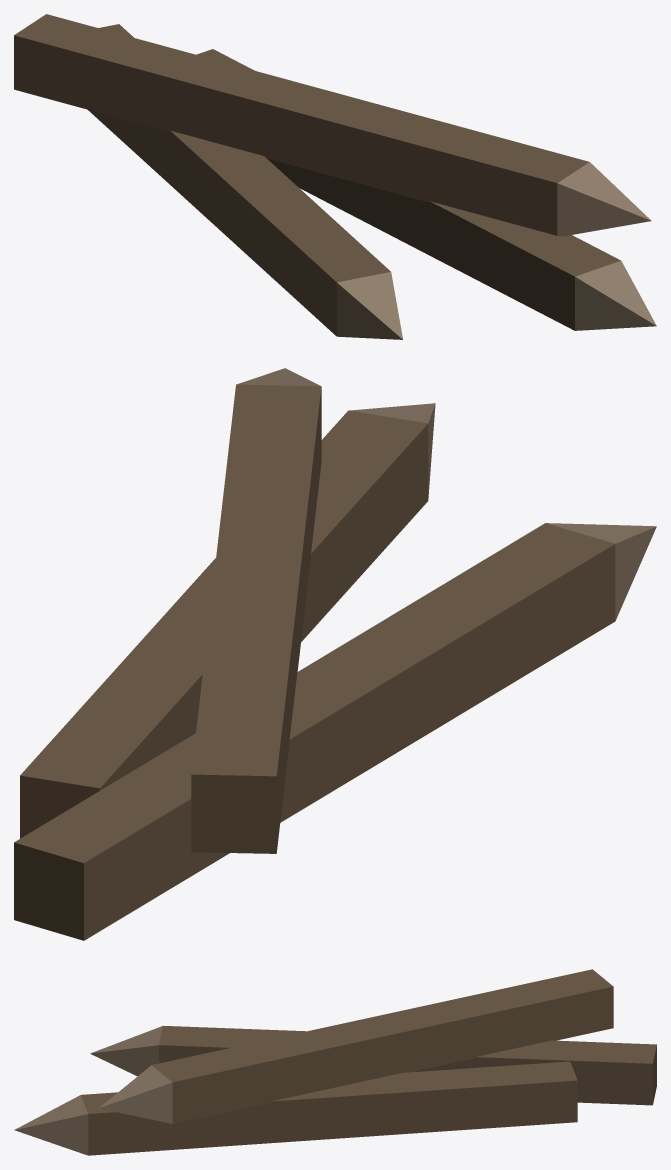
The model's file is SF_Prop_Goblin_LogPile_02.fbx.
3 renders of one model, top to bottom at view 1: azimuth 30°, elevation 25°; view 2: azimuth 150°, elevation 25°; view 3: azimuth 270°, elevation 25°, orthographic. The views are drawn at different scales.
Parts seen in each view (by area): view 1: SF_Prop_Goblin_LogPile_02; view 2: SF_Prop_Goblin_LogPile_02; view 3: SF_Prop_Goblin_LogPile_02.
Part boxes in pixels (bbox=[...]): SF_Prop_Goblin_LogPile_02: bbox=[14, 14, 656, 339]; SF_Prop_Goblin_LogPile_02: bbox=[14, 368, 656, 940]; SF_Prop_Goblin_LogPile_02: bbox=[14, 969, 656, 1155].
Bounding box in the file's own units: 3.12 × 1.01 × 7.16.
